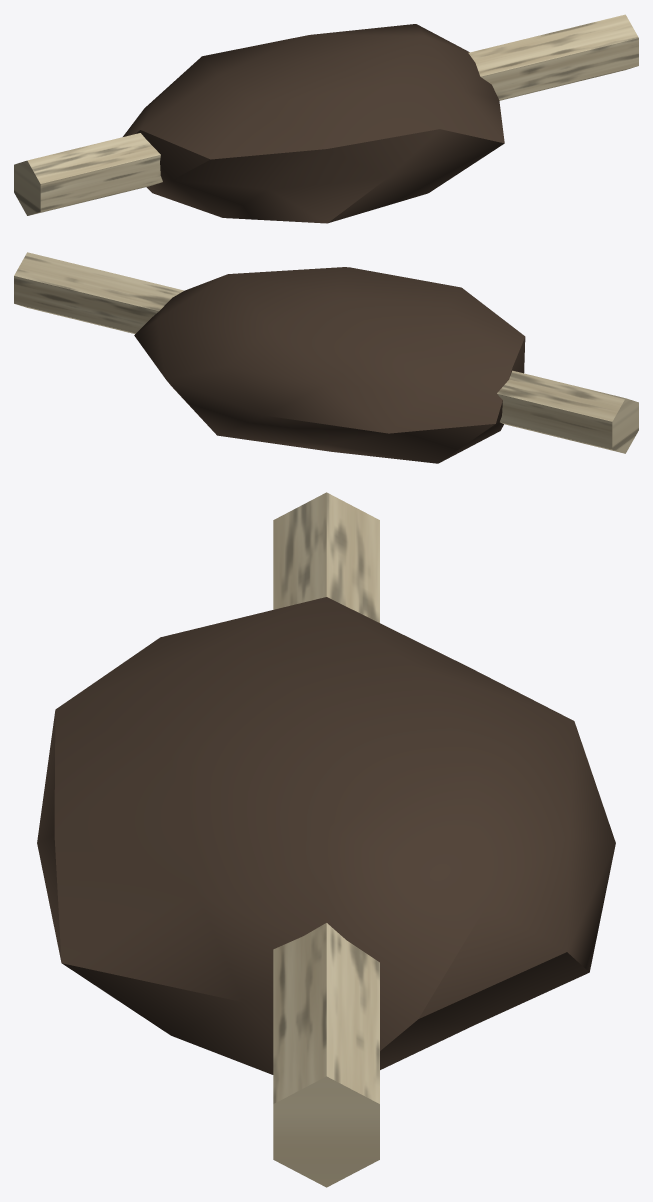
Rendered from ITEM_BurntMeat.fbx.
The picture shows the model from 3 angles, top to bottom: view 1: azimuth 30°, elevation 25°; view 2: azimuth 150°, elevation 25°; view 3: azimuth 270°, elevation 25°; orthographic projection. The views are drawn at different scales.
Parts seen in each view (by area): view 1: ITEM_BurntMeat; view 2: ITEM_BurntMeat; view 3: ITEM_BurntMeat.
Part boxes in pixels (box(x1,y1,x2,y2)): ITEM_BurntMeat: box(14, 14, 638, 223); ITEM_BurntMeat: box(14, 252, 638, 463); ITEM_BurntMeat: box(37, 492, 615, 1187).
Bounding box in the file's own units: 0.27 × 0.0588 × 0.1131.
